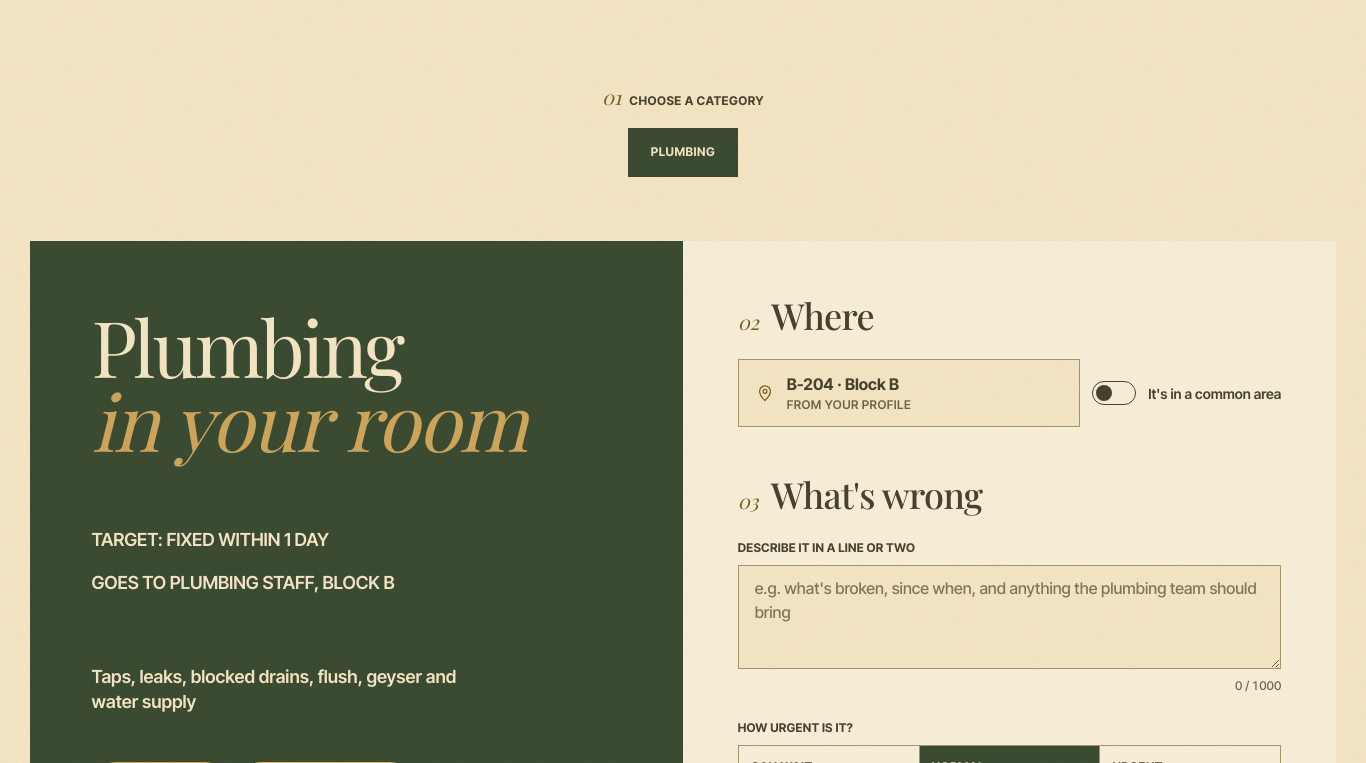
Test: Raise a complaint › offers 'Affects me too' instead of a new ticket for a common area
(page scrolled)
Click the switch labelled "It's in a common area".
click(1187, 393)  # box x1=1092 y1=381 x2=1281 y2=405
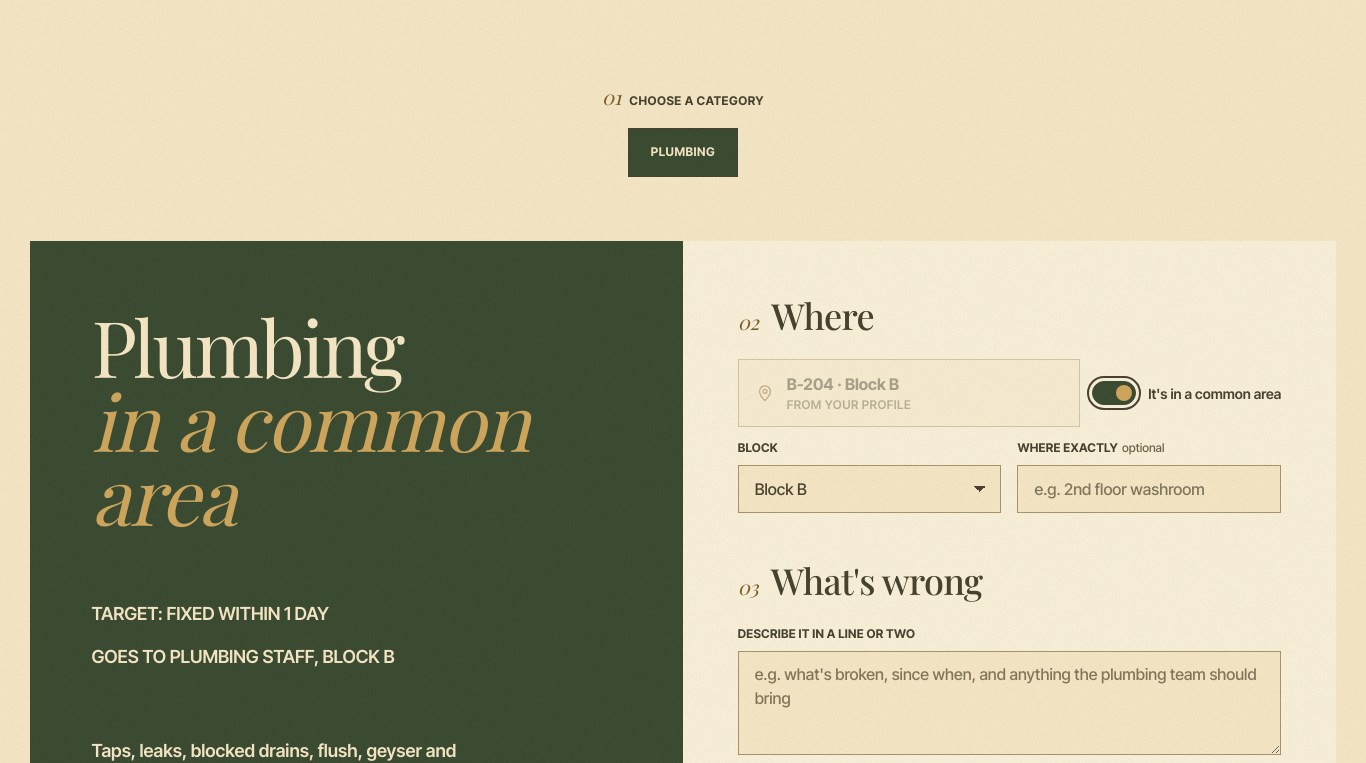
Type "Tap drips all night and keeps me awake" into the text box labelled "Describe it in a line or two".
click(1009, 703); type("Tap drips all night and keeps me awake")  # box x1=738 y1=651 x2=1281 y2=755
(page scrolled)
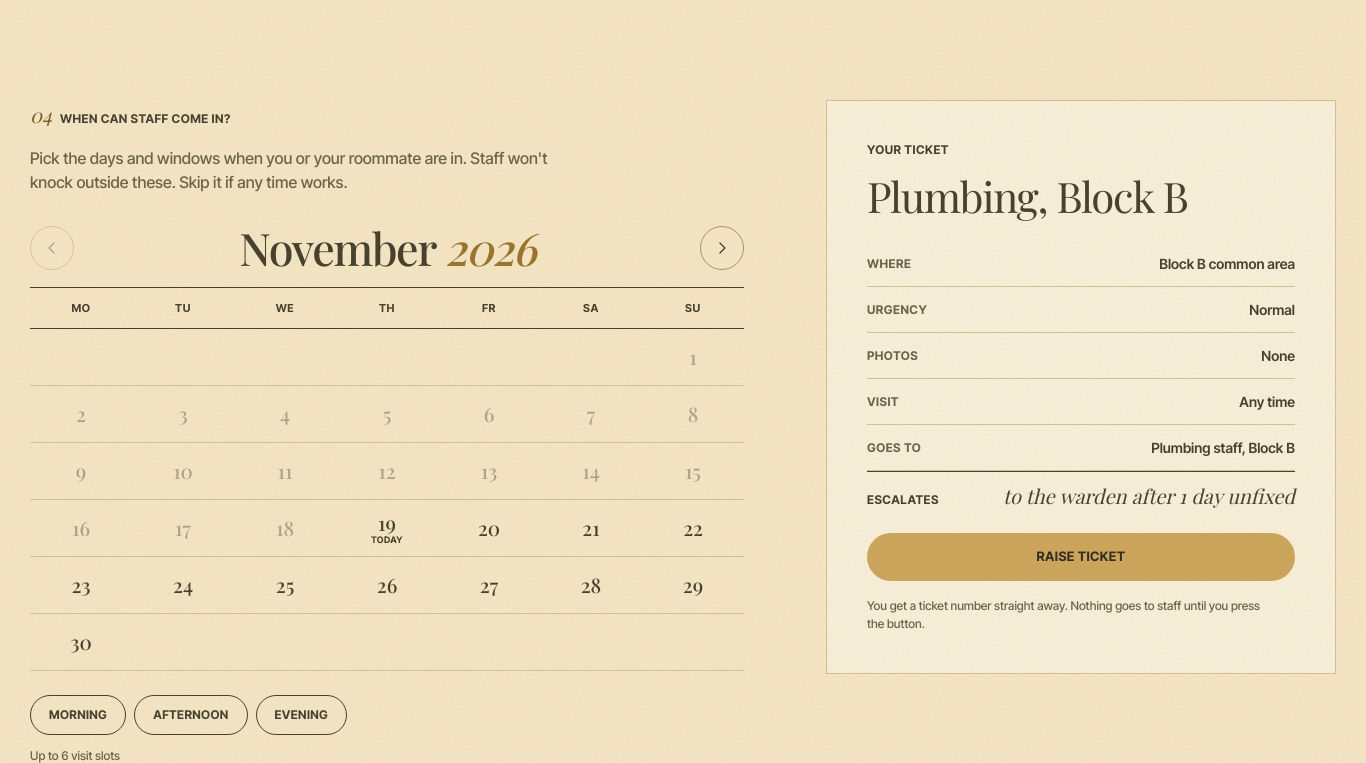
Click the button "Raise ticket".
click(1081, 557)  # box x1=867 y1=533 x2=1295 y2=581
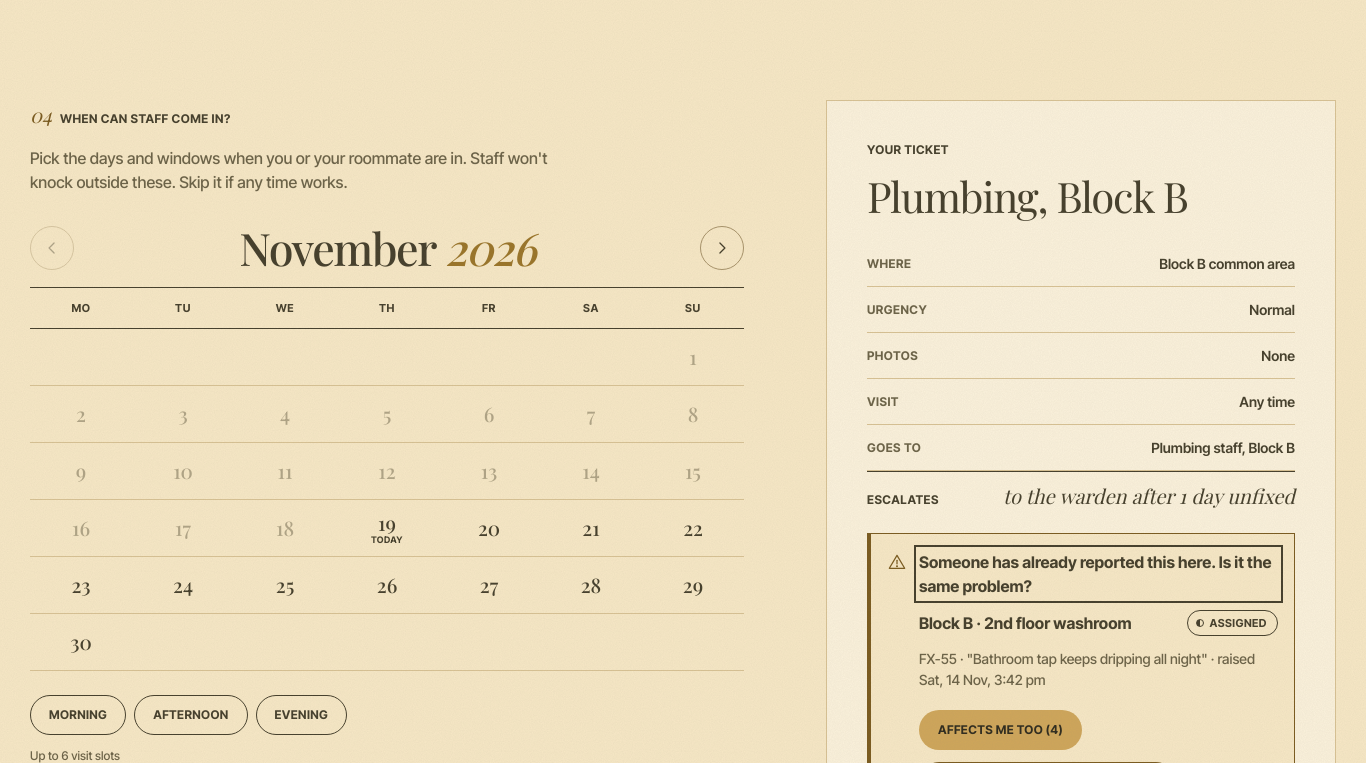
Click the button "Affects me too (4)".
click(1000, 730)  # box x1=919 y1=710 x2=1082 y2=750
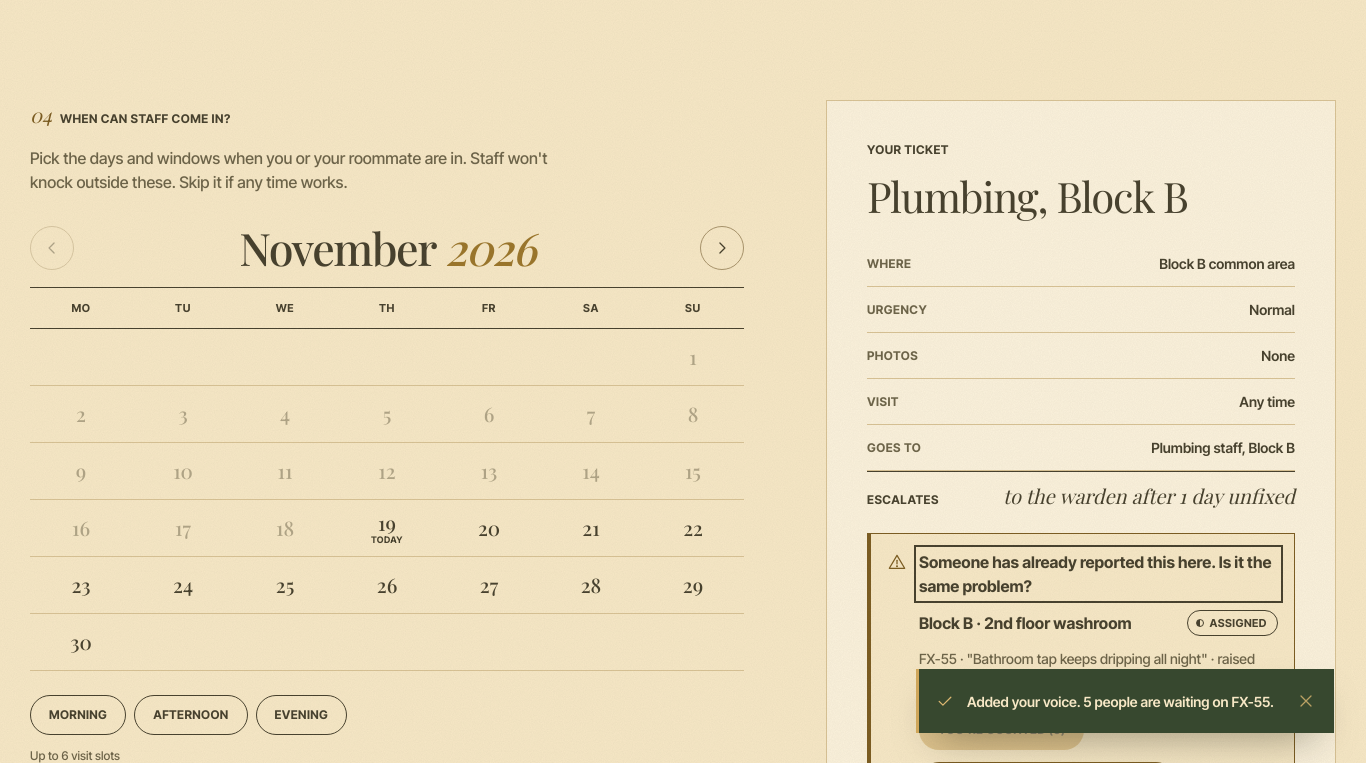
expect the button "You're counted (5)" is disabled: met, box x1=919 y1=710 x2=1084 y2=750
